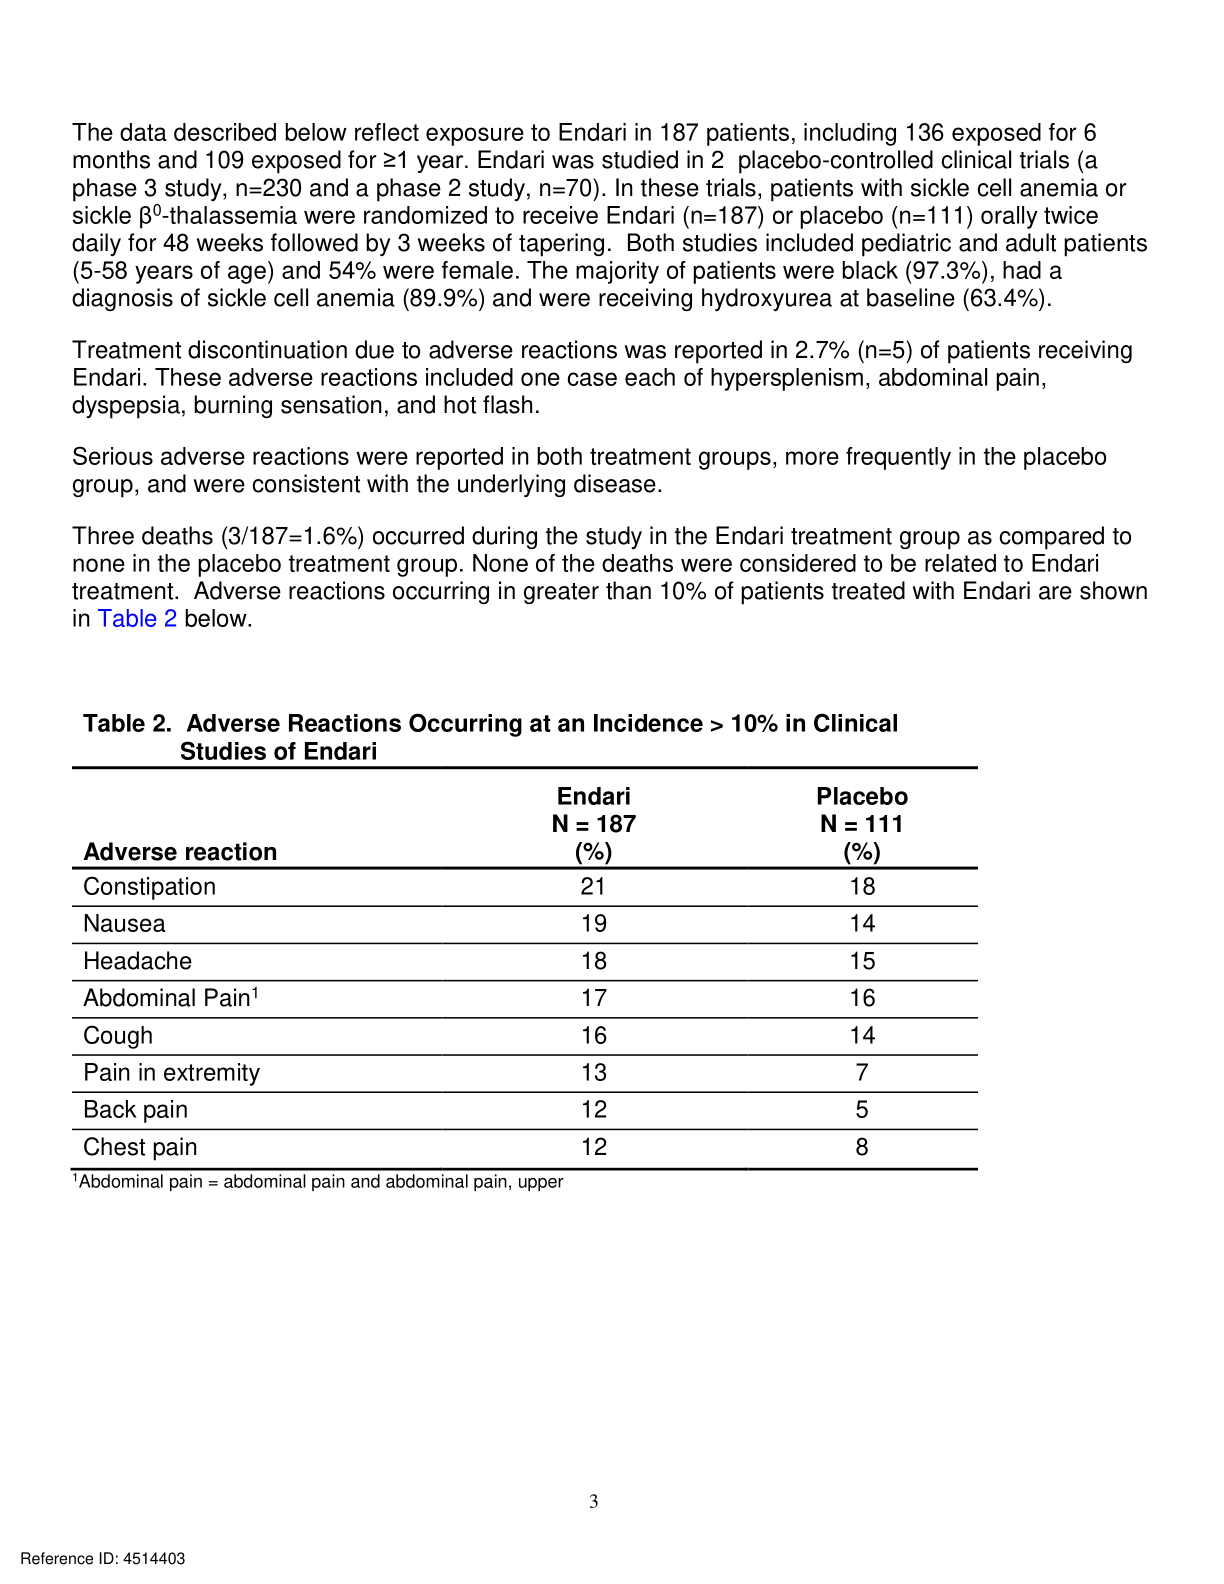partial_lined: (68, 764, 982, 1173)
